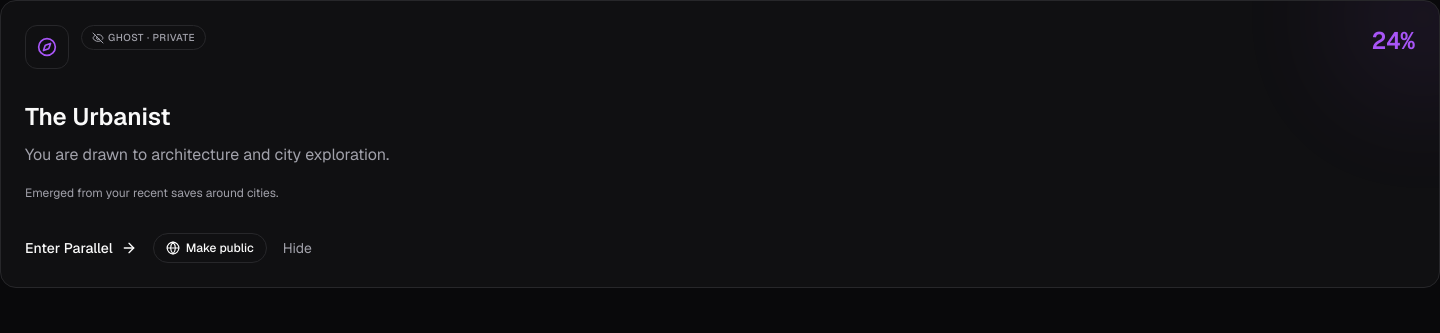
Test: ParallelCard Ghost Mode visibility controls › updates UI state and displays confirmation after successful publishing
This screenshot has width=1440, height=333.
Check: the text "Ghost · Private" is shown, box [81,25,206,50]
Click the button "Make public".
click(210, 248)  # box [153,233,267,263]
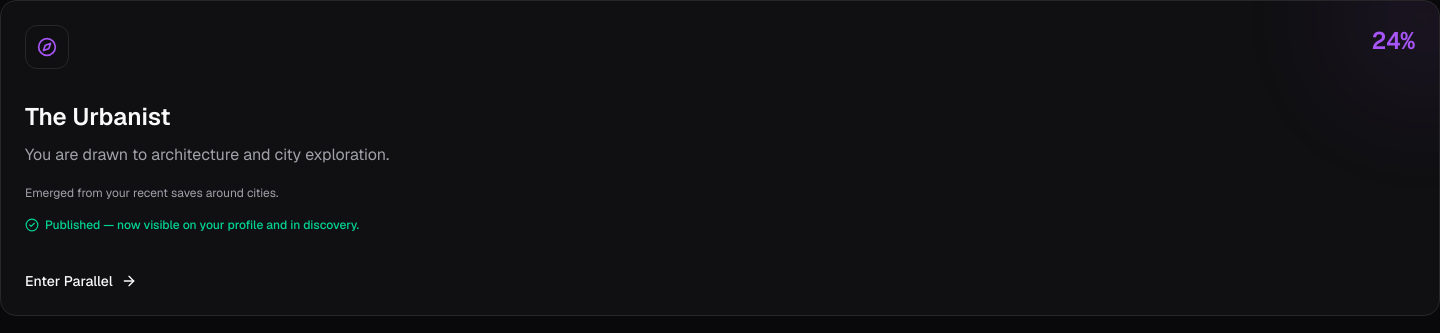
Check: the text "Ghost · Private" is gone
Check: the button "Make public" is gone
Check: the message shows "Published", box [45,217,359,233]
